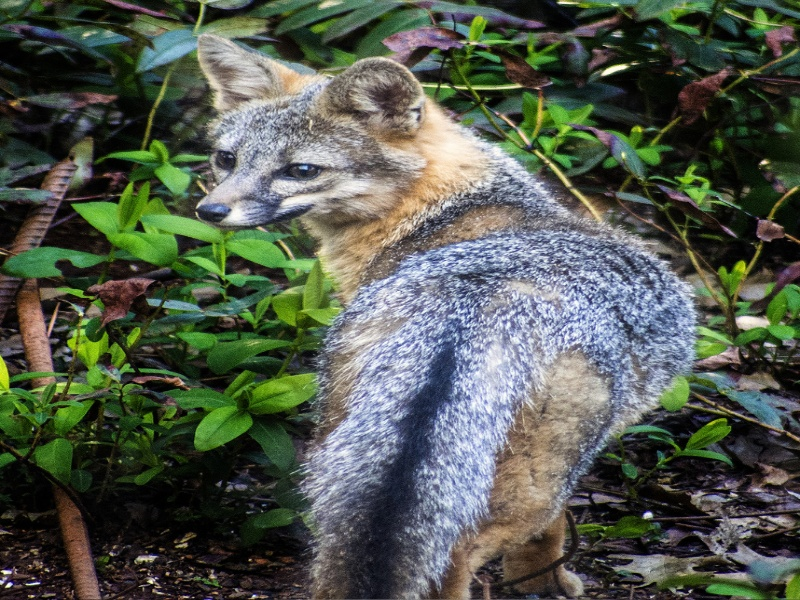fox: (185, 33, 698, 600)
